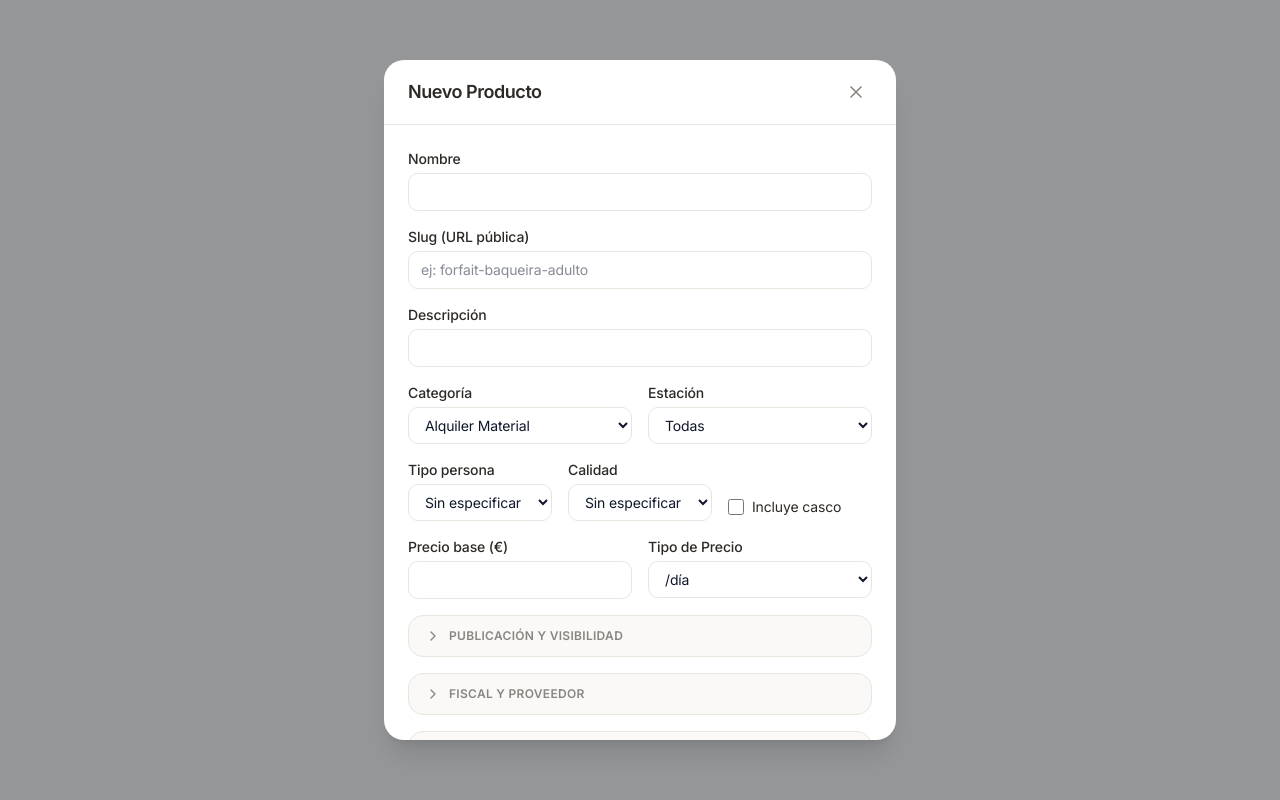
ProductModal — DOM behavior › slug inválido muestra mensaje de error
Type "Con Espacios" into the field labelled "Slug (URL pública)".
click(640, 270); type("Con Espacios")  # box [408,251,872,289]
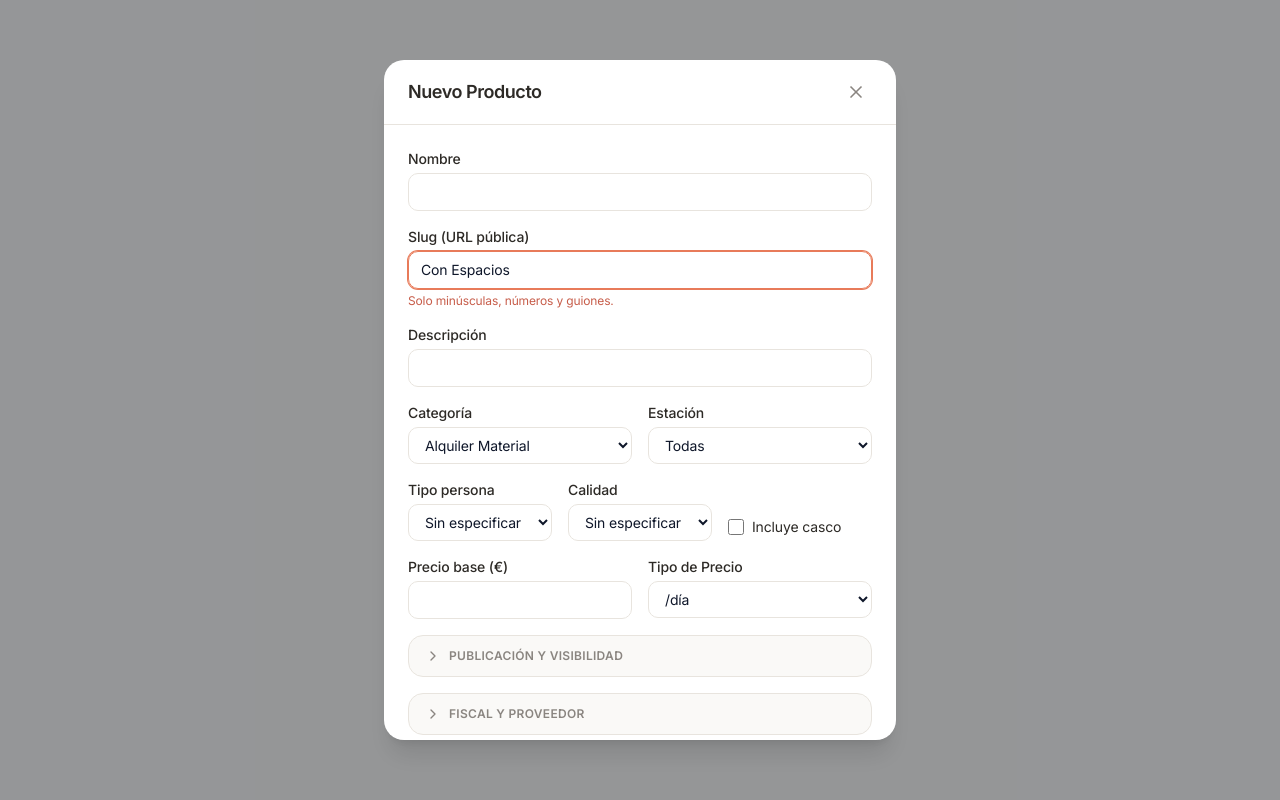
Now the text "Solo minúsculas, números y guiones." is shown, box [408,293,614,308]
